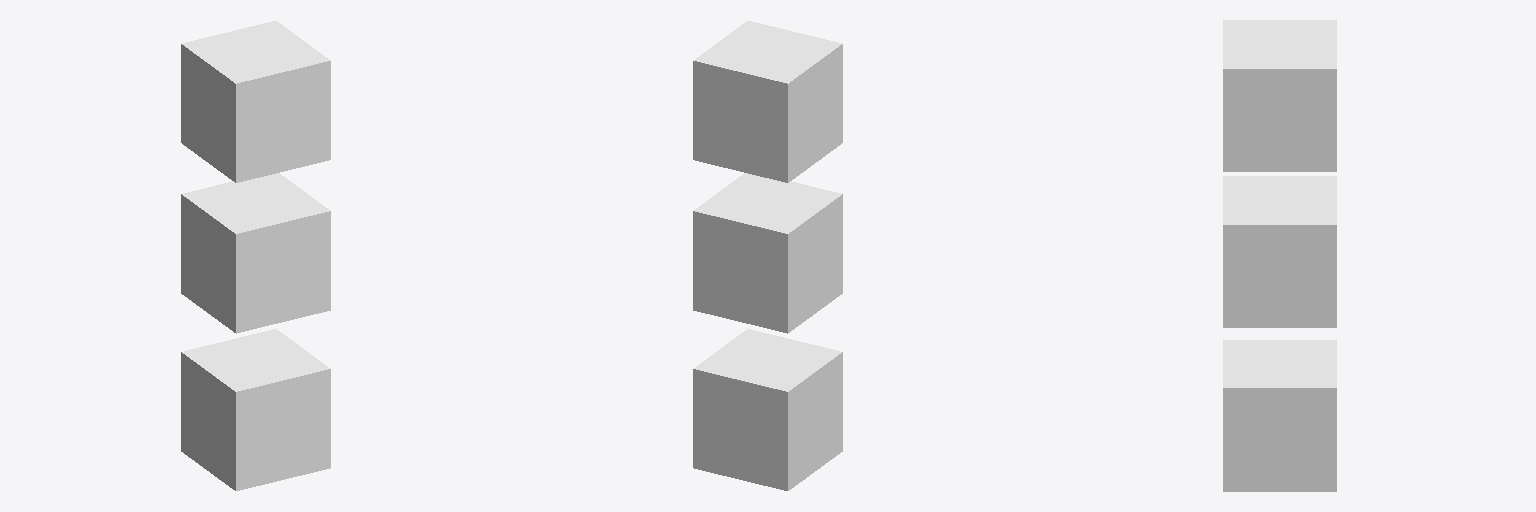
robot.urdf — cube:
<?xml version="1.0" ?>
<robot name="cube">
  <link name="baseLink">
    <contact>
      <lateral_friction value="1.0"/>
      <rolling_friction value="0.0"/>
      <contact_cfm value="0.0"/>
      <contact_erp value="1.0"/>
    </contact>
    <inertial>
      <origin rpy="0 0 0" xyz="0 0 0"/>
       <mass value="1.0"/>
       <inertia ixx="1" ixy="0" ixz="0" iyy="1" iyz="0" izz="1"/>
    </inertial>
    <visual>
      <origin rpy="0 0 0" xyz="0 0 0"/>
      <geometry>
				<mesh filename="three_cubes.obj" scale="1 1 1"/>
      </geometry>
       <material name="white">
        <color rgba="1 1 1 1"/>
      </material>
    </visual>
    <collision>
      <origin rpy="0 0 0" xyz="0 0 0"/>
      <geometry>
	 	<mesh filename="three_cubes.obj" scale="1 1 1"/>
      </geometry>
    </collision>
  </link>
</robot>


--- Render facts (derived) ---
The picture shows the robot from 3 angles, left to right: view 1: azimuth 30°, elevation 25°; view 2: azimuth 150°, elevation 25°; view 3: azimuth 270°, elevation 25°; orthographic projection.
Robot: cube — 1 links, 0 joints (none); root link baseLink; default pose: all joints at 0.
Visible links, largest first — view 1: baseLink; view 2: baseLink; view 3: baseLink.
Link boxes in pixels (left/top/right/bottom): baseLink: left=181, top=21, right=330, bottom=490; baseLink: left=693, top=21, right=842, bottom=490; baseLink: left=1223, top=20, right=1336, bottom=491.
Size in the robot's own frame: 2 by 2 by 8.2 metres.
1 mesh visuals loaded from 1 distinct referenced files (1 OBJ).